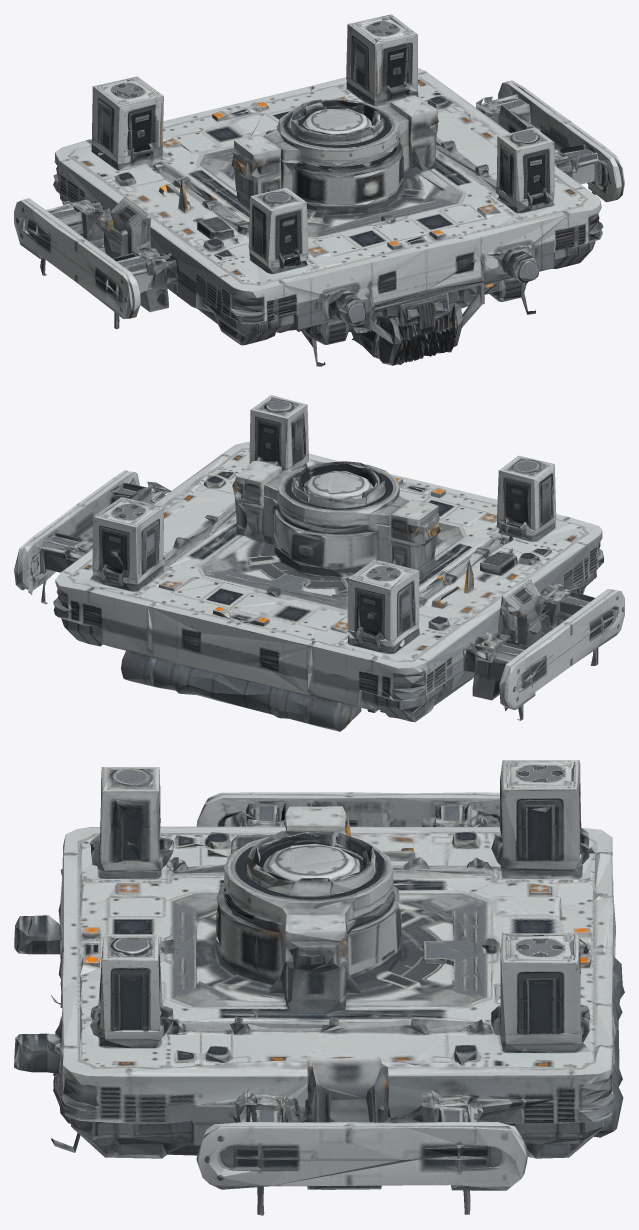
File: web.glb
The picture shows the model from 3 angles, top to bottom: view 1: azimuth 30°, elevation 25°; view 2: azimuth 150°, elevation 25°; view 3: azimuth 270°, elevation 25°; orthographic projection. The views are drawn at different scales.
Parts seen in each view (by area): view 1: output_unwrapped; view 2: output_unwrapped; view 3: output_unwrapped.
Boxes of the visible parts, x1,y1,x2,y2 form: output_unwrapped: (14,14,624,366); output_unwrapped: (14,395,624,731); output_unwrapped: (14,760,624,1215).
Bounding box in the file's own units: 1.9 × 0.6734 × 1.45.
Materials: 1 (1 with a texture image).
